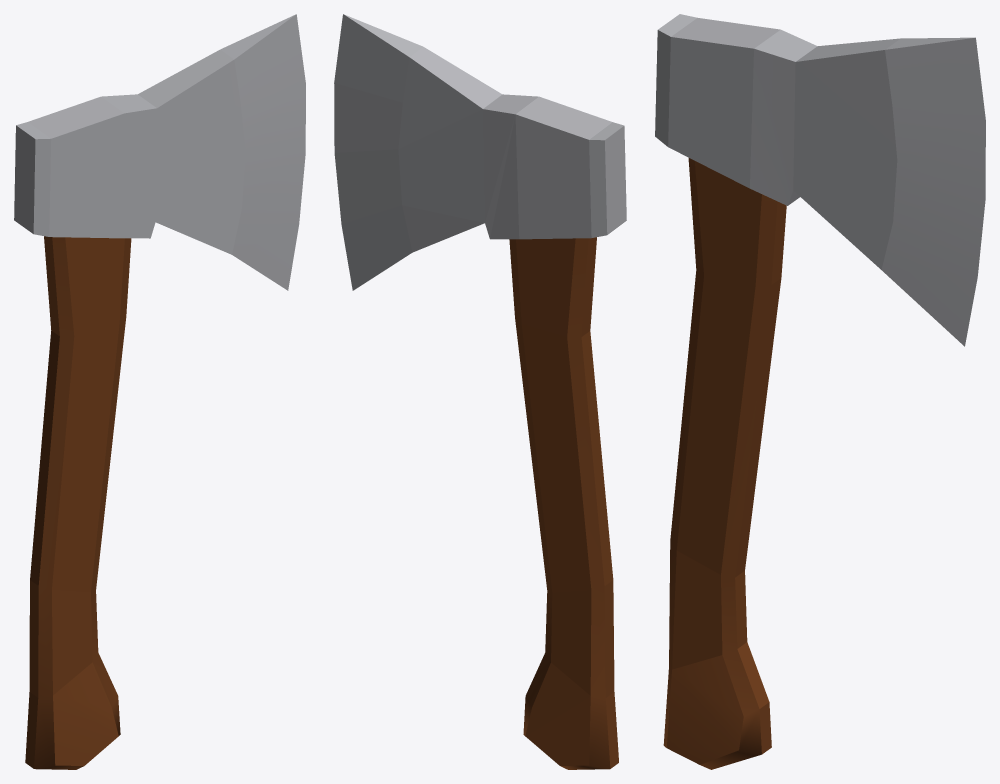
File: axe.fbx
3 renders of one model, left to right at view 1: azimuth 30°, elevation 25°; view 2: azimuth 150°, elevation 25°; view 3: azimuth 330°, elevation 25°, orthographic. The views are drawn at different scales.
Parts seen in each view (by area): view 1: axe_01; view 2: axe_01; view 3: axe_01.
Boxes of the visible parts, x1,y1,x2,y2 form: axe_01: (14, 14, 305, 769); axe_01: (334, 14, 626, 769); axe_01: (655, 14, 985, 769).
Bounding box in the file's own units: 11.64 × 27.46 × 1.96.
